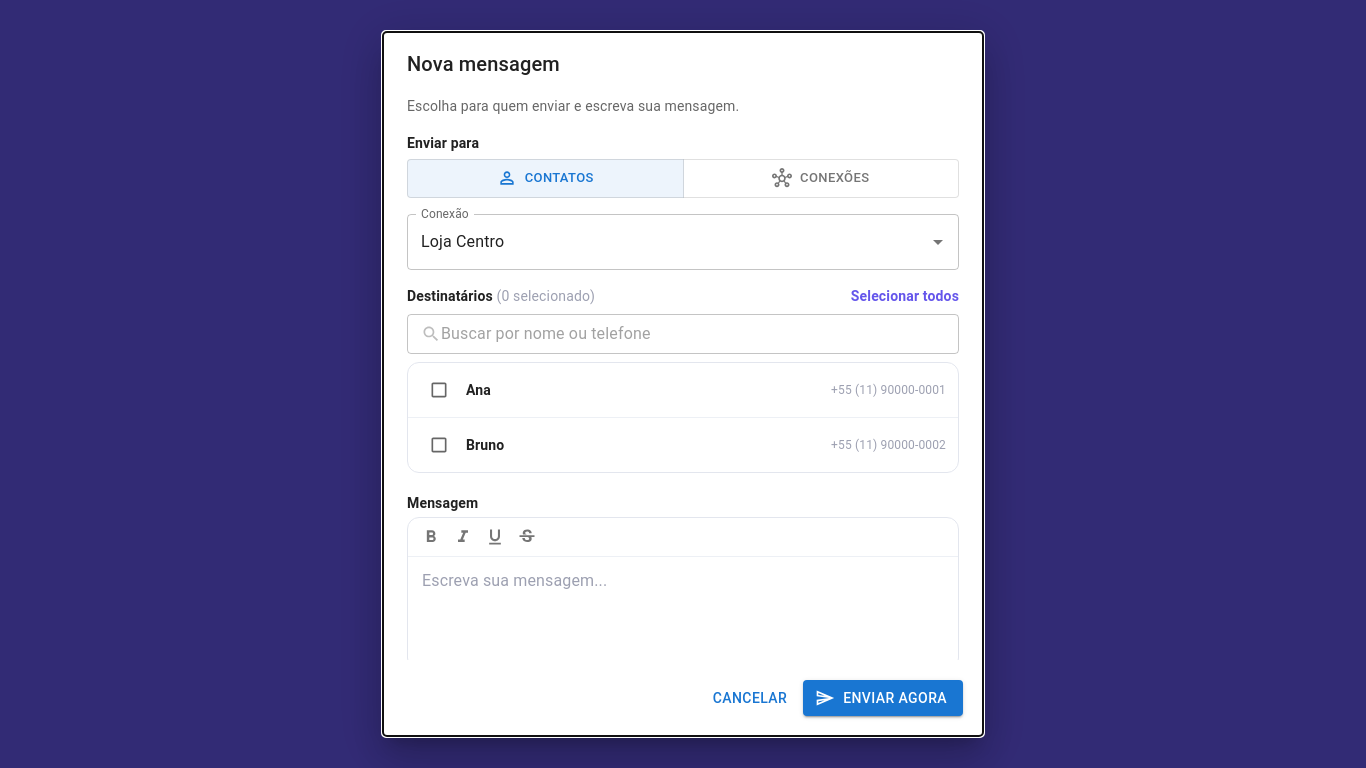
Scenario: MessageDialog — new message › sends to every contact of the chosen connections
Click the button "Conexões" at (821, 178), box [682,159,959,198]
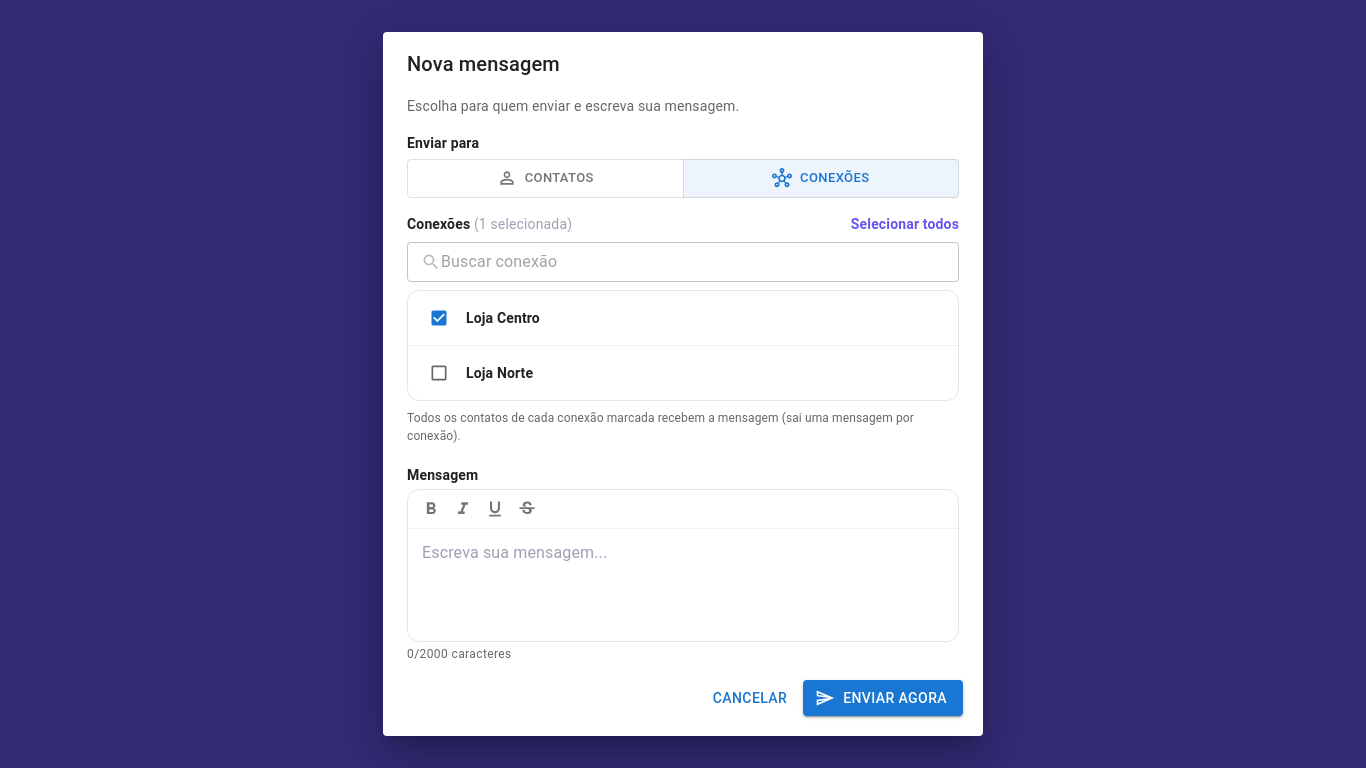
Click the button "Selecionar todos" at (905, 224), box [851,214,959,234]
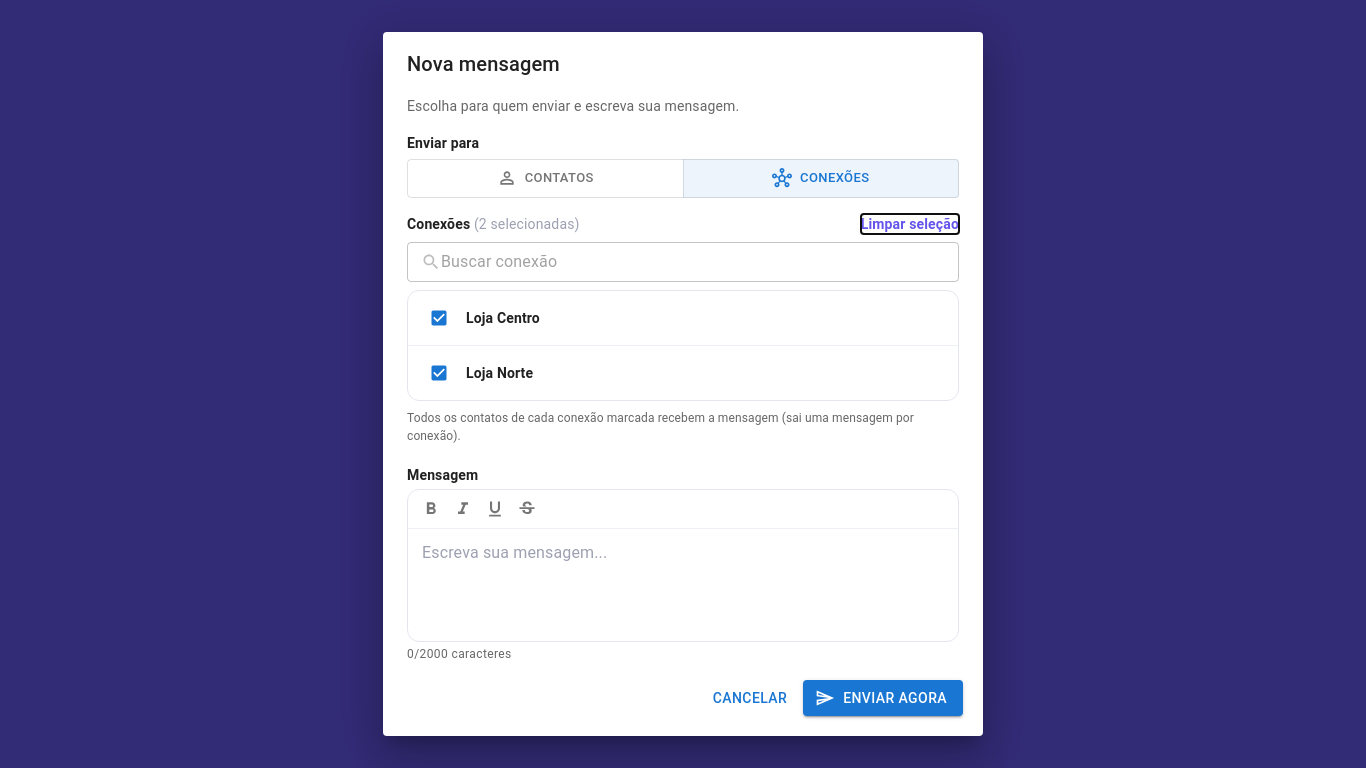
Click the field named "Mensagem" at (683, 585), box [408,529,958,641]
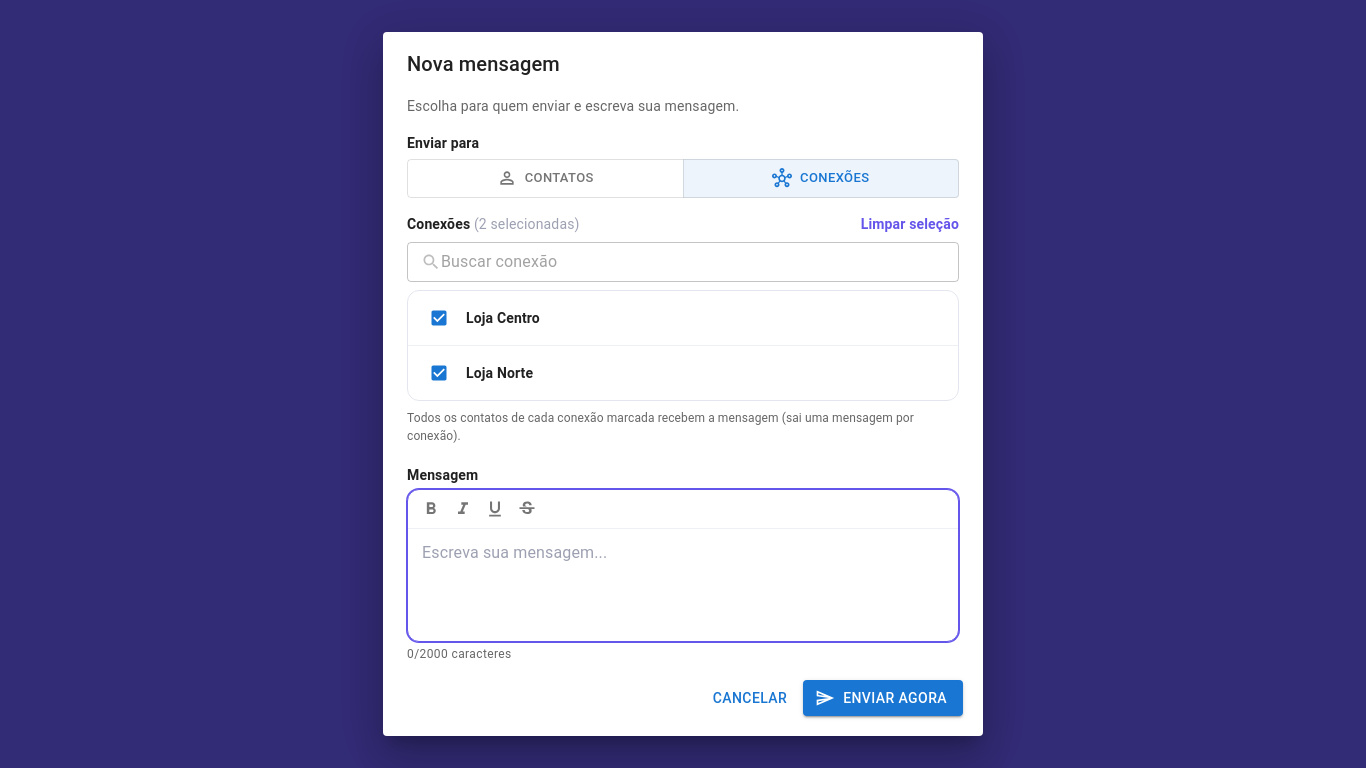
Type keys "Aviso geral"
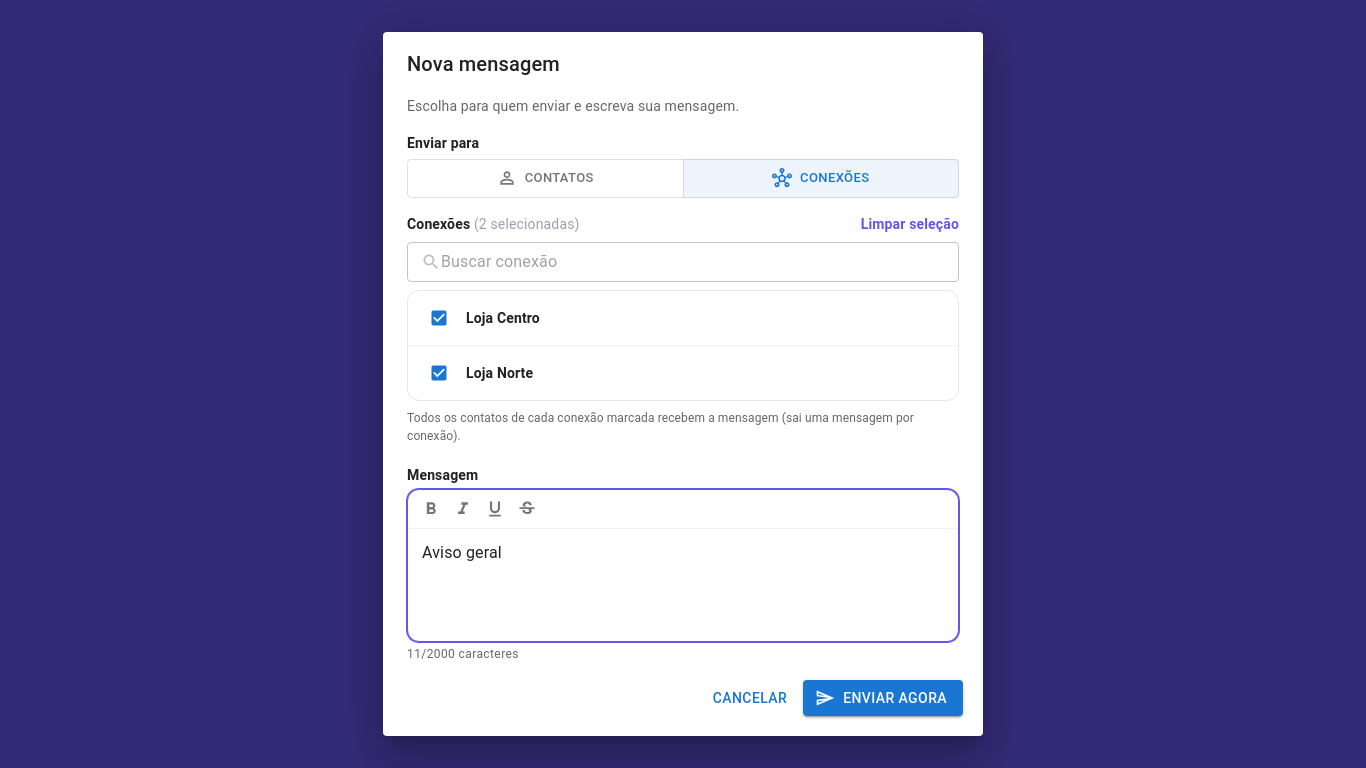
Click the button "Enviar agora" at (883, 698), box [803,680,963,716]
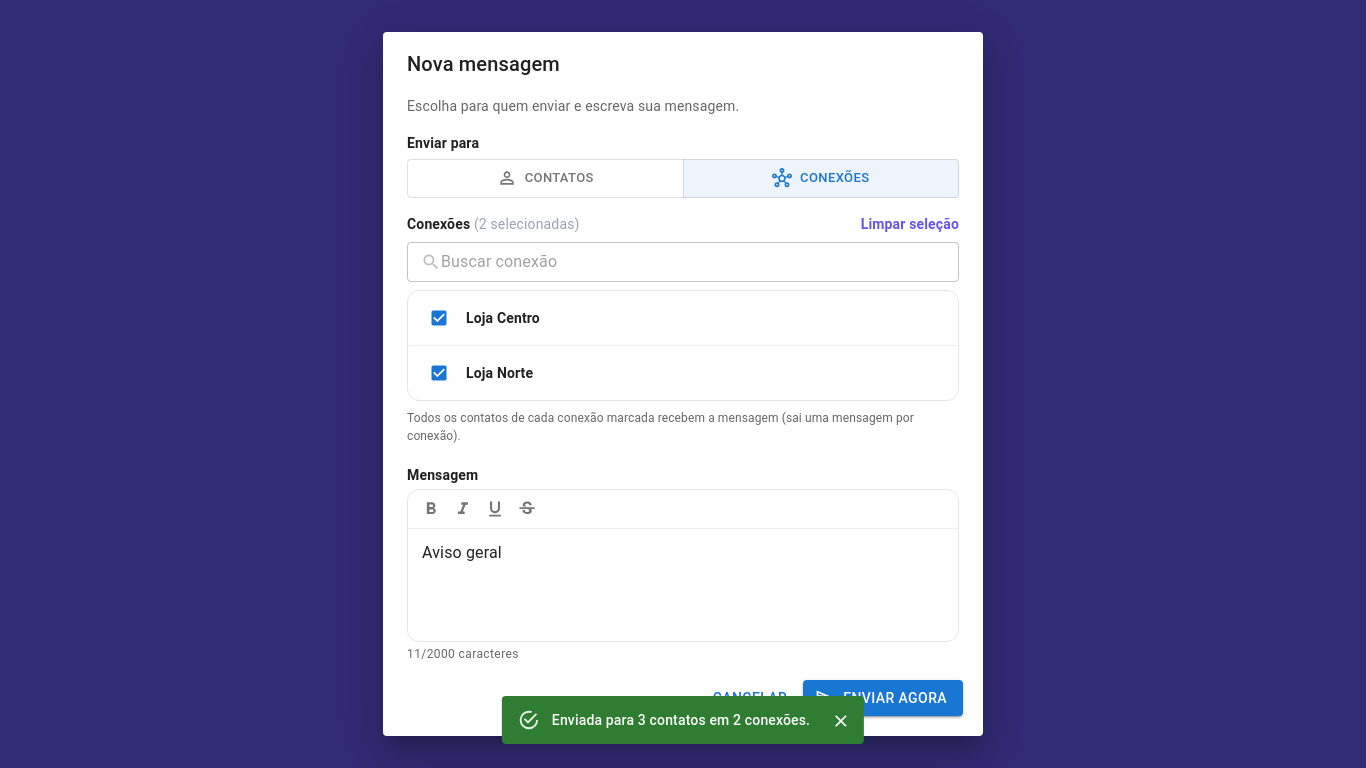
Check: the text "Enviada para 3 contatos em 2 conexões." is shown, box [552,712,810,728]
